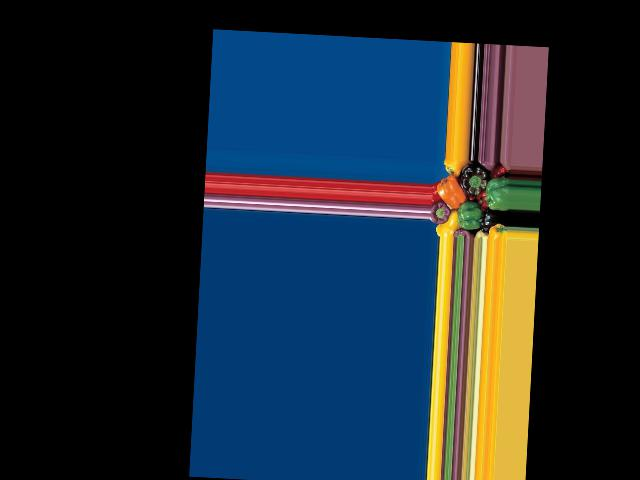bell_pepper: (487, 175, 511, 210)
